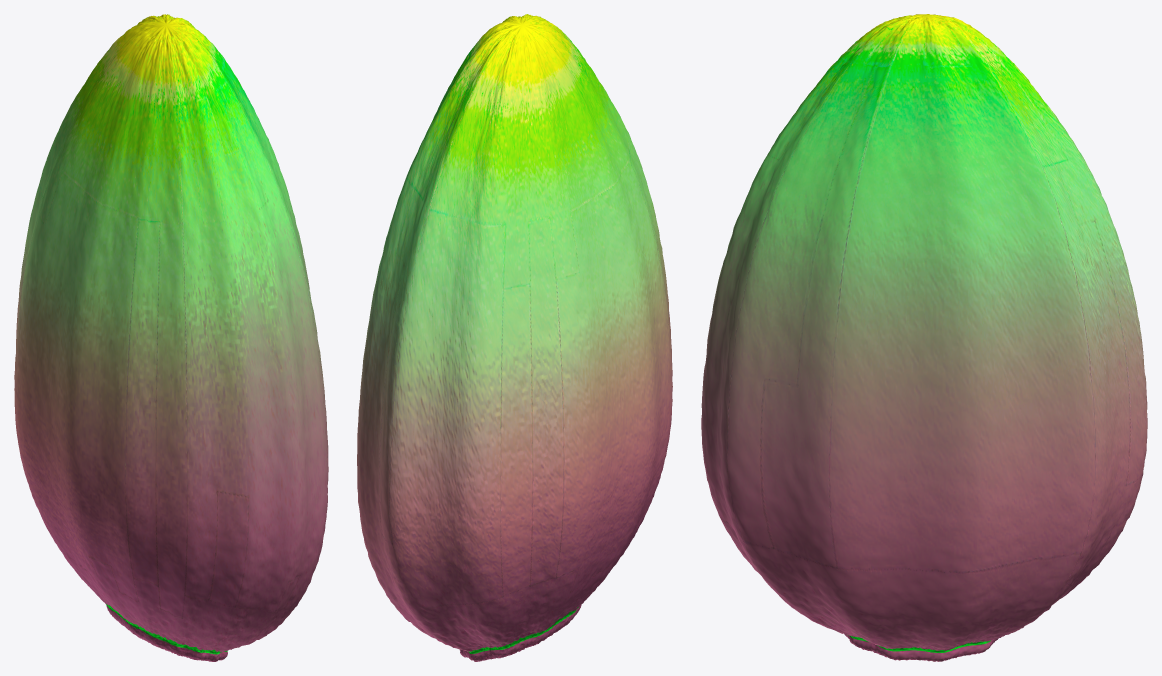
File: seed4.glb
3 renders of one model, left to right at view 1: azimuth 30°, elevation 25°; view 2: azimuth 150°, elevation 25°; view 3: azimuth 270°, elevation 25°, orthographic.
Parts seen in each view (by area): view 1: 球体; view 2: 球体; view 3: 球体.
Part boxes in pixels (x1,y1,x2,y2): 球体: (14,14,328,661); 球体: (357,14,672,661); 球体: (701,14,1147,661).
Size of the model in its own units: 0.3991 by 1.06 by 0.6781.
Materials: 1 (1 with a texture image).
